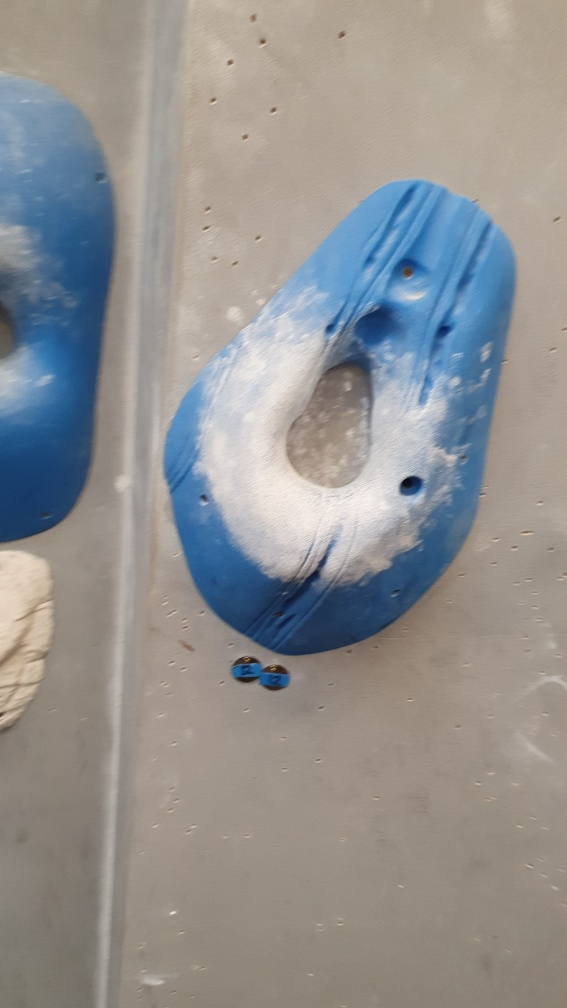Hand Start: (228, 655, 261, 688), (259, 661, 290, 694)
Pocket: (162, 174, 519, 659)
